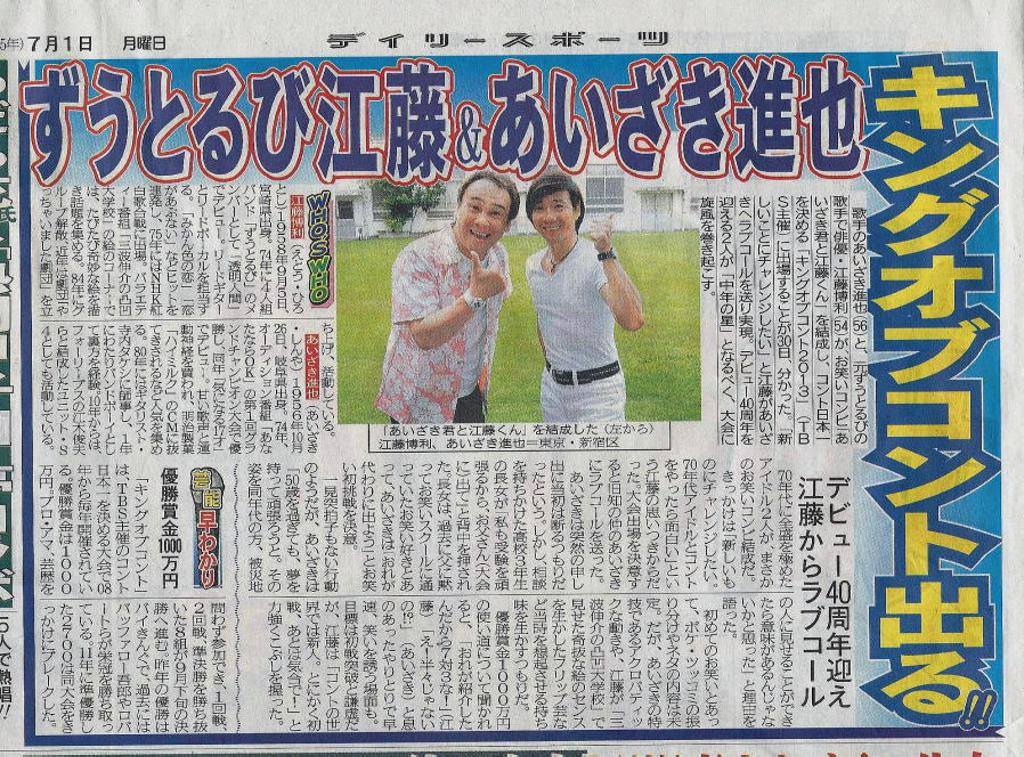face: (457, 175, 511, 256), (529, 186, 573, 243)
